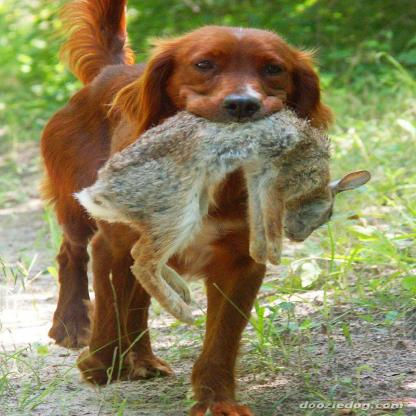Irish_setter: (33, 0, 335, 415)
